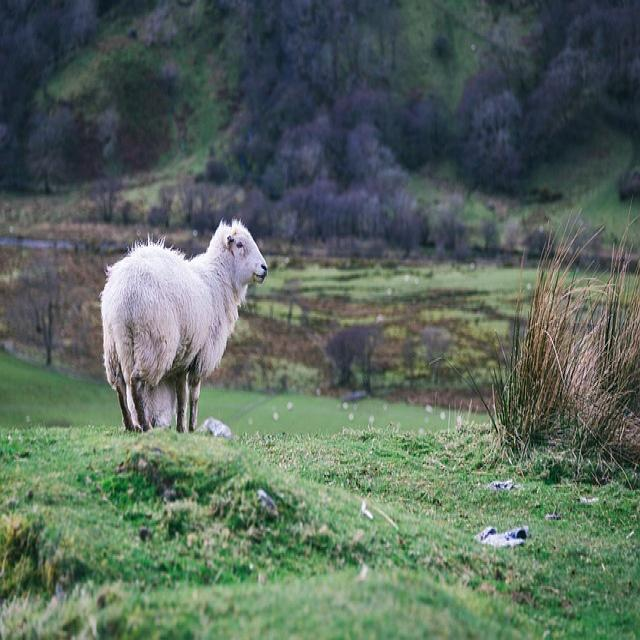goat: (101, 220, 268, 432)
